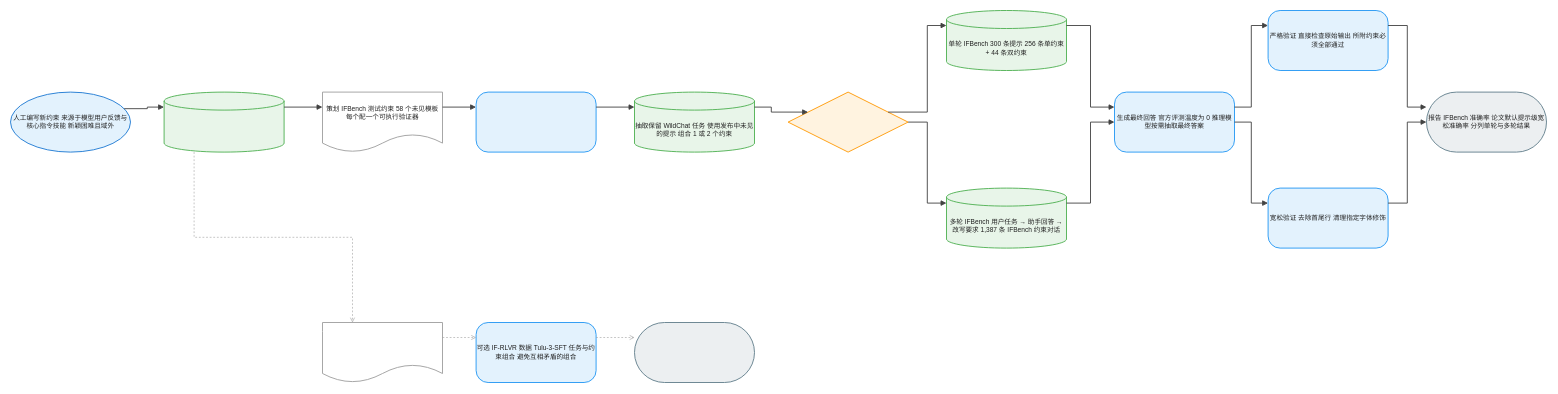
Image size: 1558x394. Some labels were removed from this diagram. The shapes that lost their labels are listed below. From the top down, each one's centre as x and y in pixels, then its label:
At [223,121]: "定义约束分类 划分训练与测试模板 七个大类".
At [535,121]: "实现 Python 验证 实例化约束变量 仅保留可自动检查规则".
At [847,121]: "人工兼容性复核 主任务与约束可同时满足 删除指令冲突".
At [382,352]: "独立 IFTrain 发布 29 个未见训练约束 配套验证函数".
At [694,352]: "使用可验证奖励训练 GRPO / DPO 实验 测量对保留 IFBench 的迁移".
